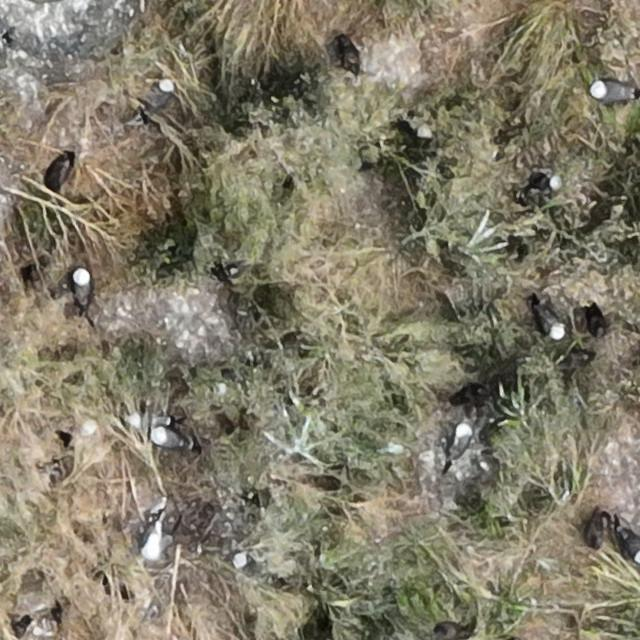umineko: (142, 80, 175, 118), (142, 517, 170, 559), (592, 82, 632, 101), (414, 122, 436, 155), (541, 308, 565, 338), (526, 175, 565, 192), (126, 413, 174, 426), (152, 429, 184, 448), (73, 268, 91, 301), (452, 424, 469, 456), (624, 533, 640, 562), (231, 554, 260, 568)
